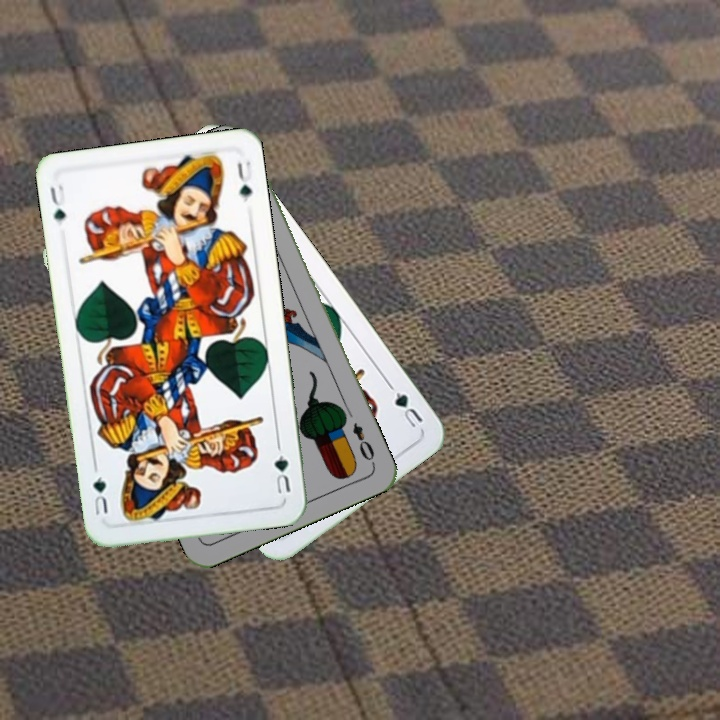EO: (348, 418, 378, 468)
GU: (390, 387, 426, 431), (270, 450, 293, 497), (46, 180, 69, 223)
